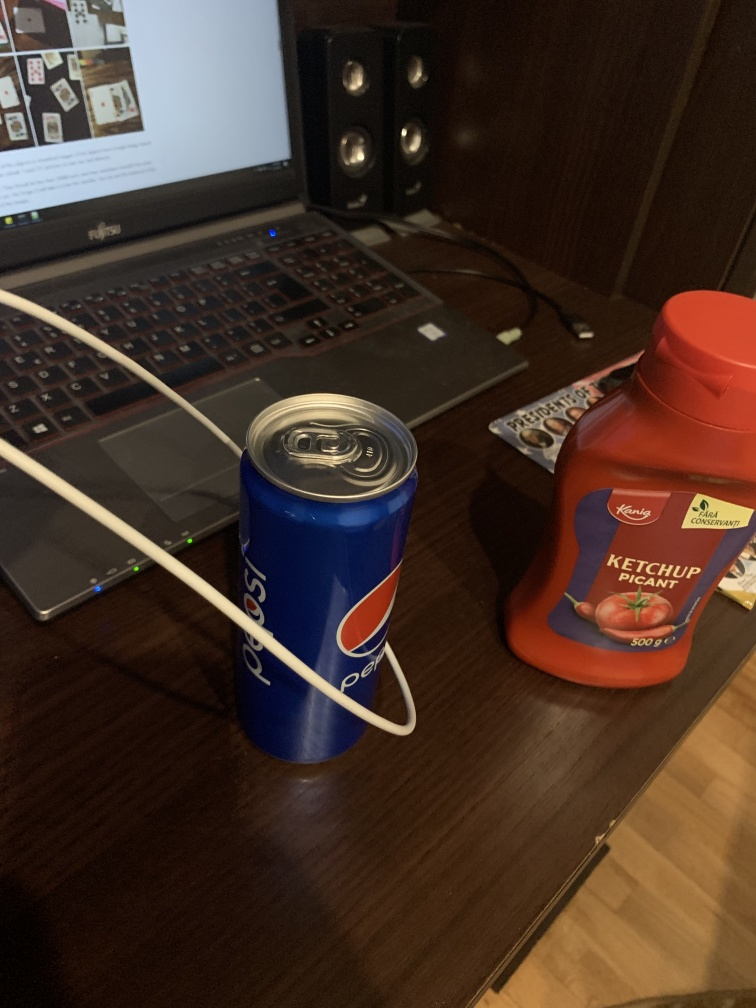ketchup: (495, 260, 756, 705)
pepsi: (234, 389, 423, 766)
